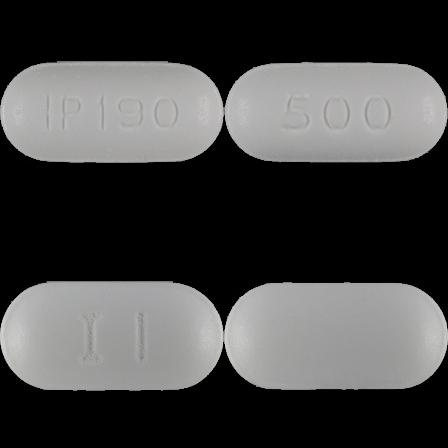42291-628: (0, 0, 224, 224)
